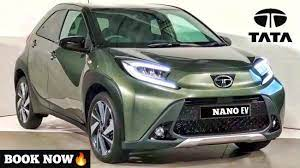Nano: (13, 1, 286, 164)
